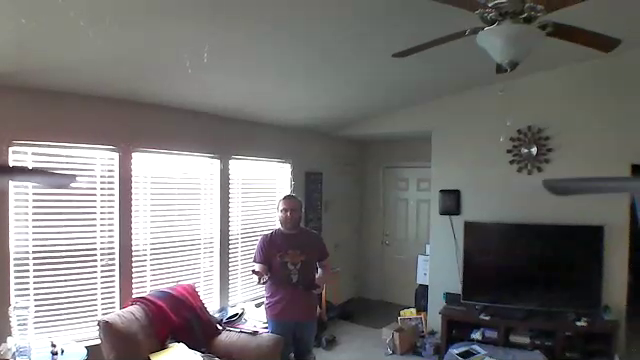land: (248, 265, 276, 287)
